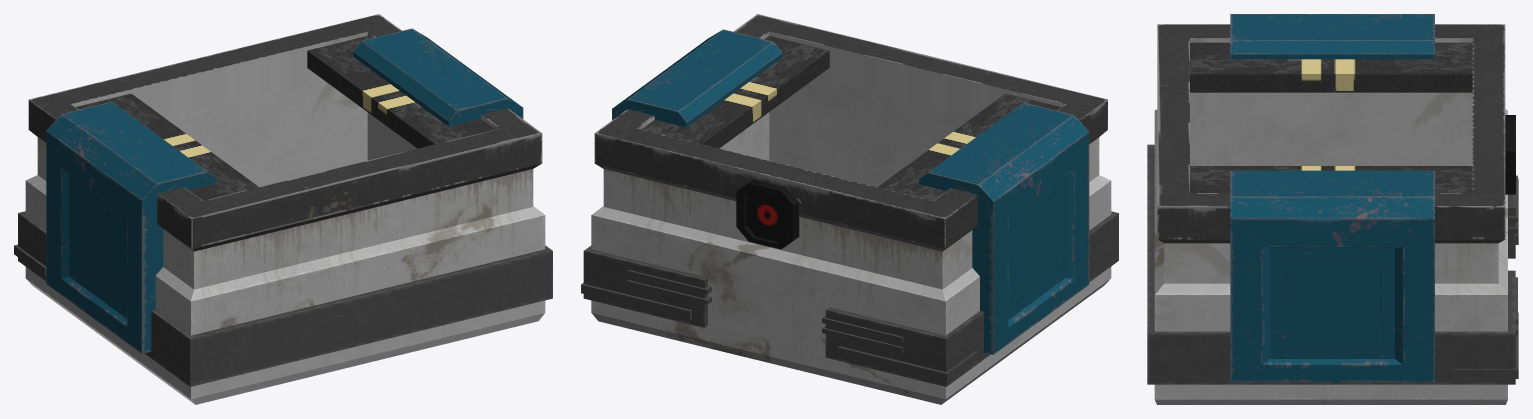
Rendered from Box_Opening.FBX.
3 renders of one model, left to right at view 1: azimuth 30°, elevation 25°; view 2: azimuth 150°, elevation 25°; view 3: azimuth 270°, elevation 25°, orthographic. The views are drawn at different scales.
Parts seen in each view (by area): view 1: Box002; view 2: Box002; view 3: Box002.
Boxes of the visible parts, x1,y1,x2,y2 form: Box002: (14,14,552,404); Box002: (581,14,1118,404); Box002: (1147,14,1518,404).
Size of the model in its own units: 62.24 by 30.66 by 49.14.
1 material, 1 textured.
